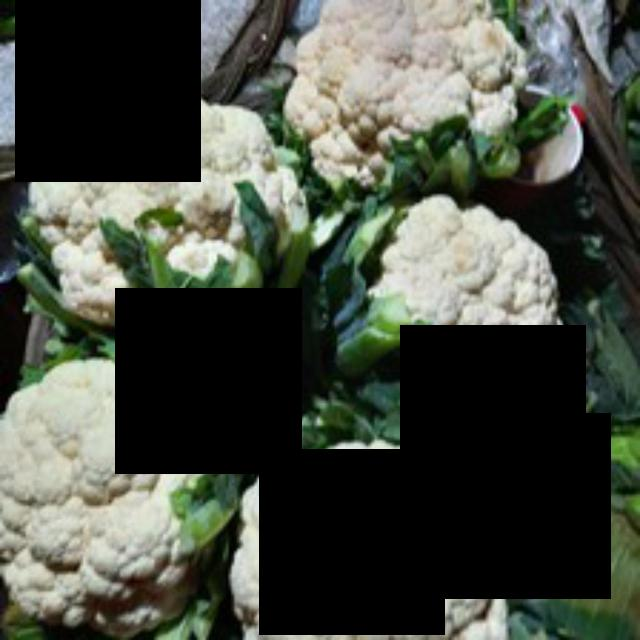cauliflower: (15, 85, 315, 317), (1, 354, 229, 623), (237, 437, 497, 637), (362, 195, 600, 407)
